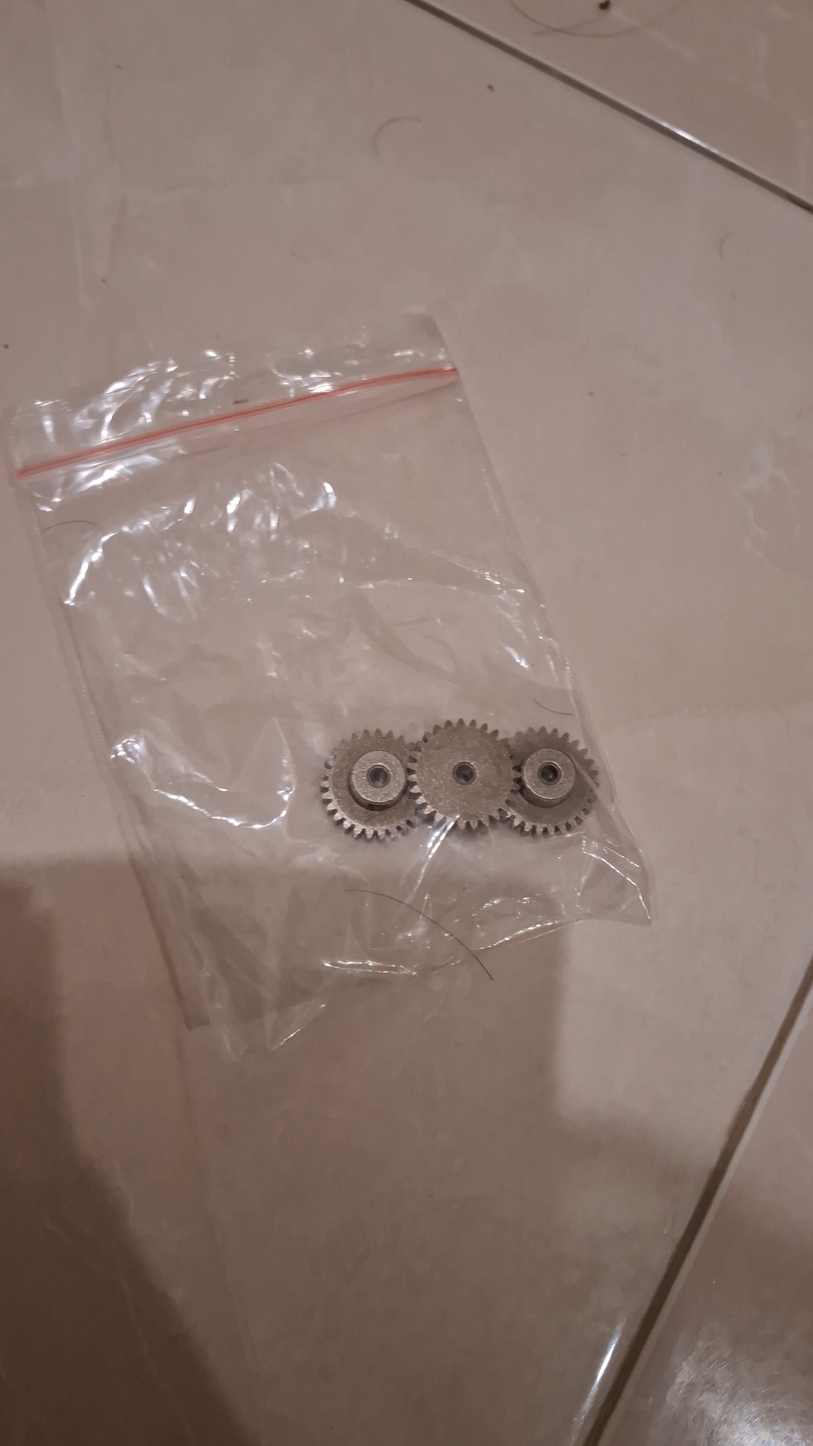spur gear: (318, 728, 428, 840), (492, 725, 603, 833), (409, 719, 513, 830)
